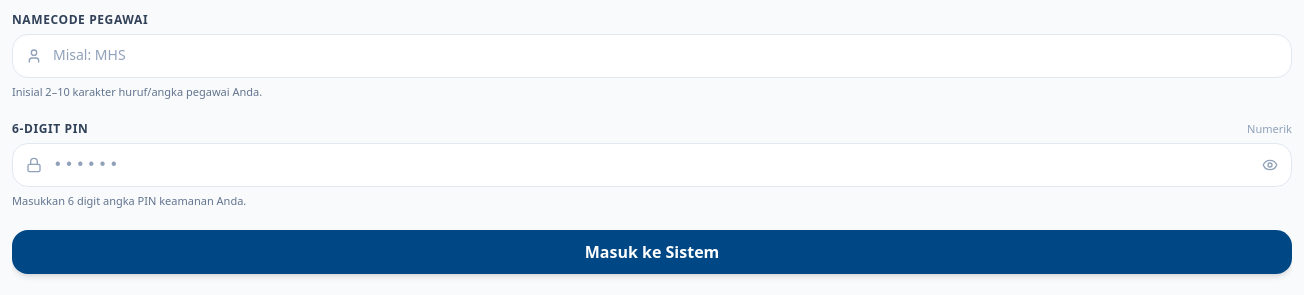
Test case: Auth Login Feature (Task P1.3) Tests › LoginForm Component › shows validation error on empty fields submit
Click the button "Masuk ke Sistem": (652, 252) x1=12 y1=230 x2=1292 y2=274
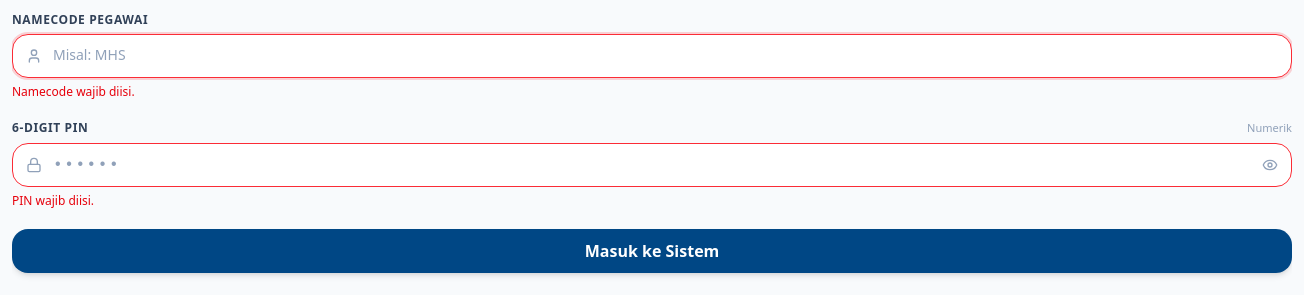
Expected: the text "Namecode wajib diisi." is shown, x1=12 y1=83 x2=135 y2=100
Expected: the text "PIN wajib diisi." is shown, x1=12 y1=192 x2=94 y2=208
